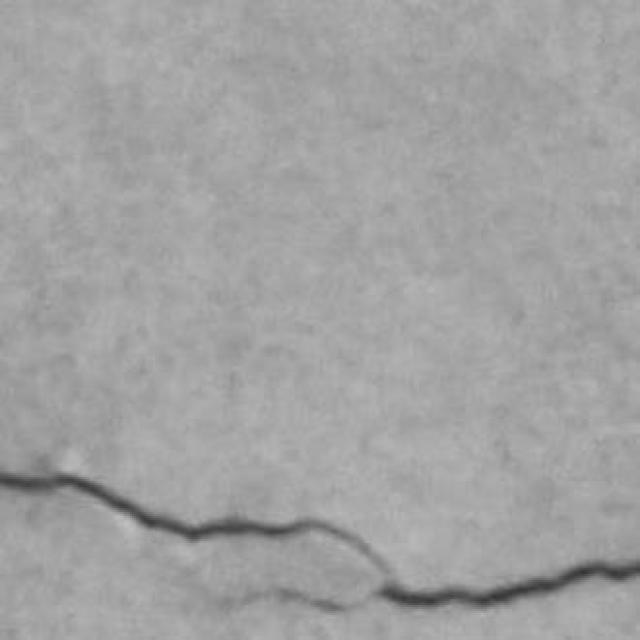crack: (0, 472, 639, 612), (0, 472, 393, 577), (375, 561, 639, 608)
